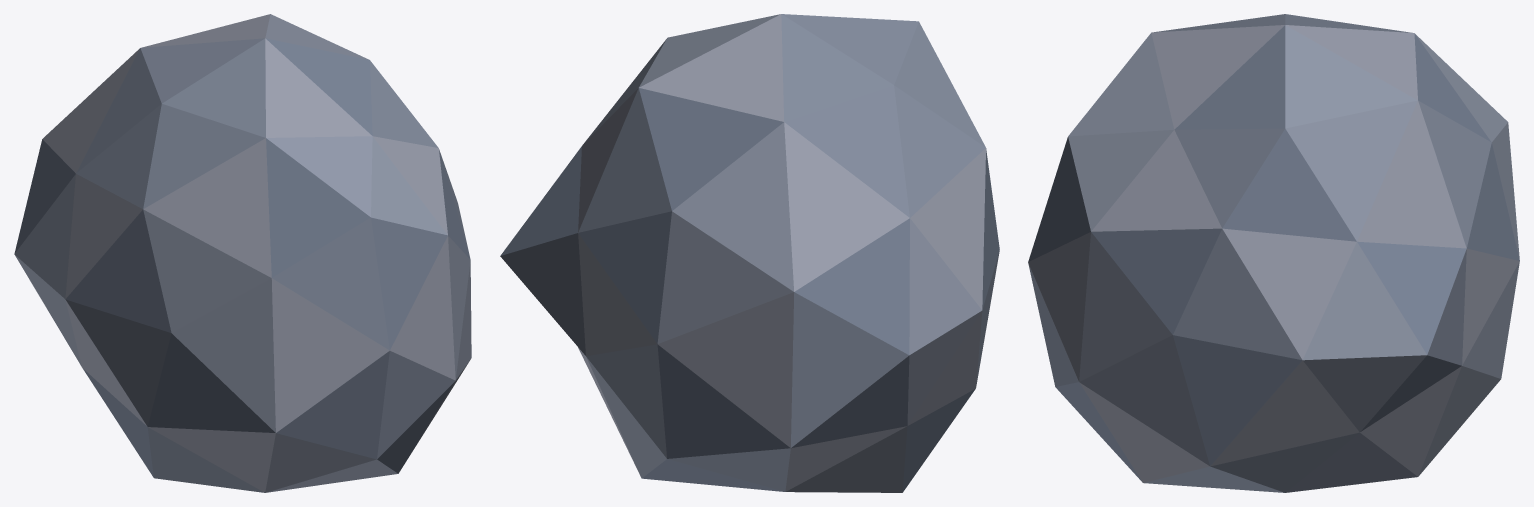
Rendered from asteroid_2.gltf.
3 renders of one model, left to right at view 1: azimuth 30°, elevation 25°; view 2: azimuth 150°, elevation 25°; view 3: azimuth 270°, elevation 25°, orthographic. The views are drawn at different scales.
Visible parts, largest first — view 1: asteroid_2; view 2: asteroid_2; view 3: asteroid_2.
Part boxes in pixels (x1,y1,x2,y2): asteroid_2: [14, 14, 471, 492]; asteroid_2: [500, 14, 999, 492]; asteroid_2: [1028, 14, 1519, 492].
Bounding box in the file's own units: 1.93 × 1.97 × 1.98.
